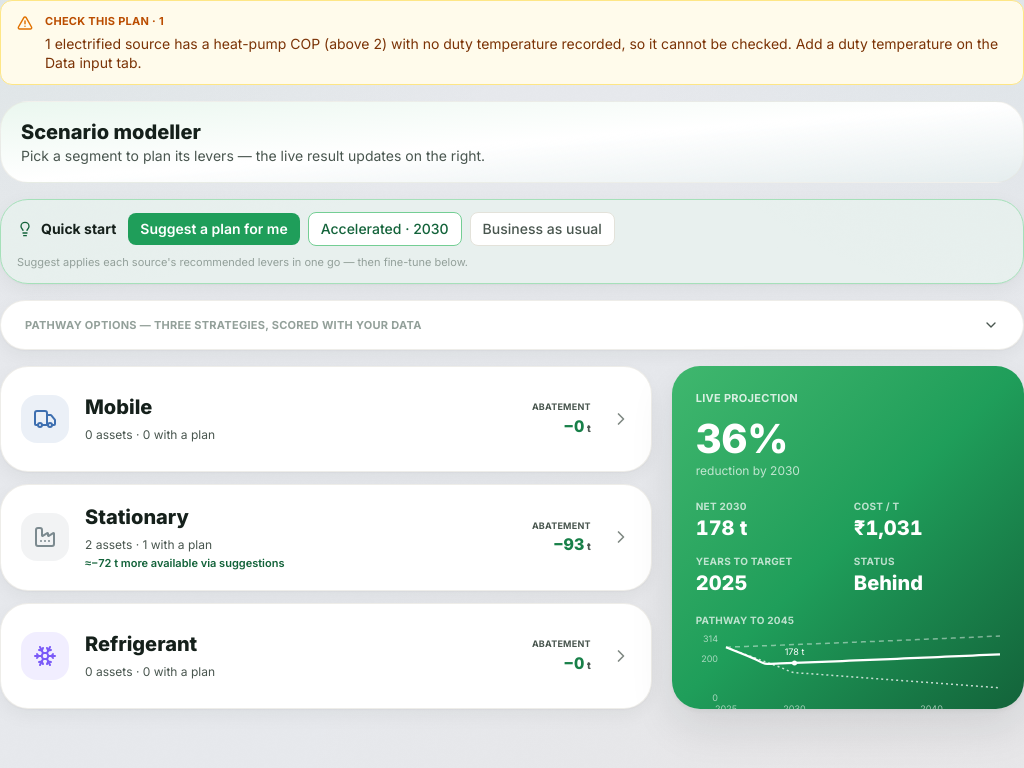
Test: BuilderTab — one planning card per equipment (Task 7, D3) › adds the plan onto the machine that was clicked, leaving its sibling alone (D3)
Click the text "Stationary" at (137, 517), box 85,505 -> 189,529
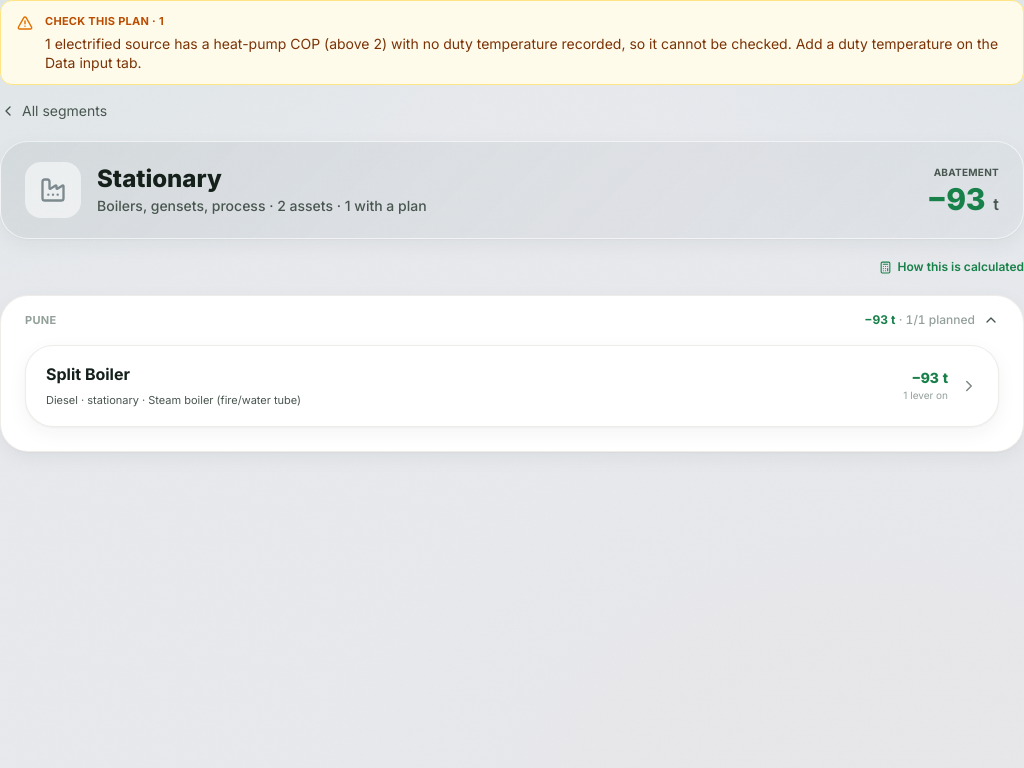
Click the text "Split Boiler" at (88, 374), box 46,362 -> 130,386
(page scrolled)
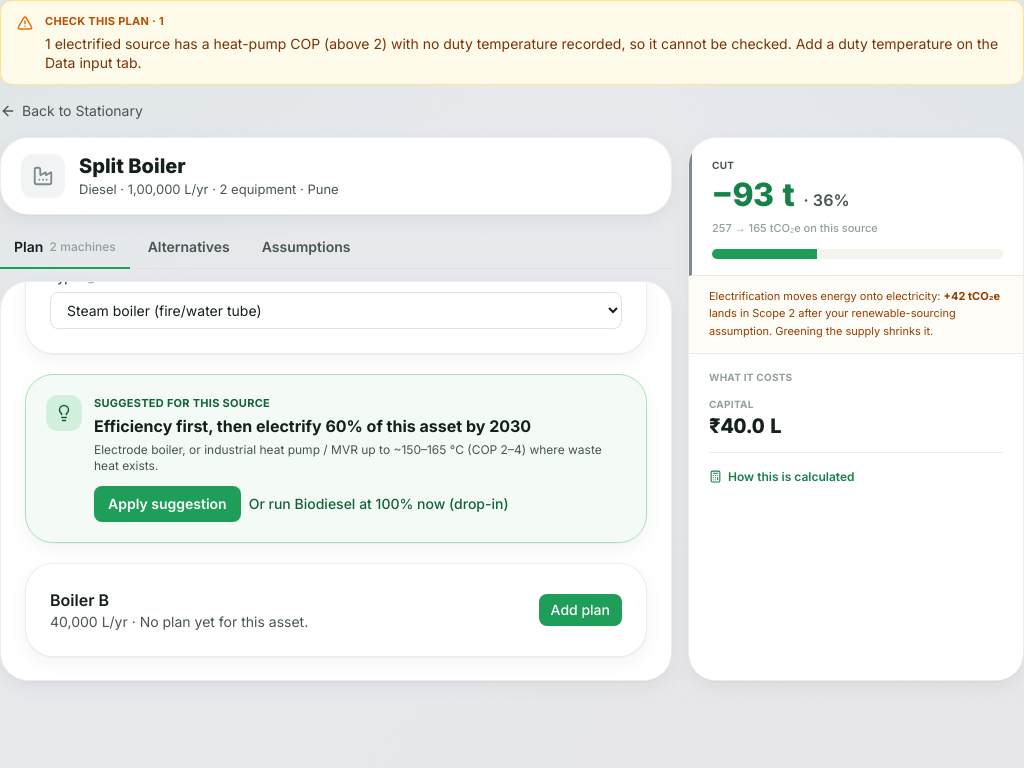
Click the button "Add plan" at (580, 610), box 539,594 -> 622,626
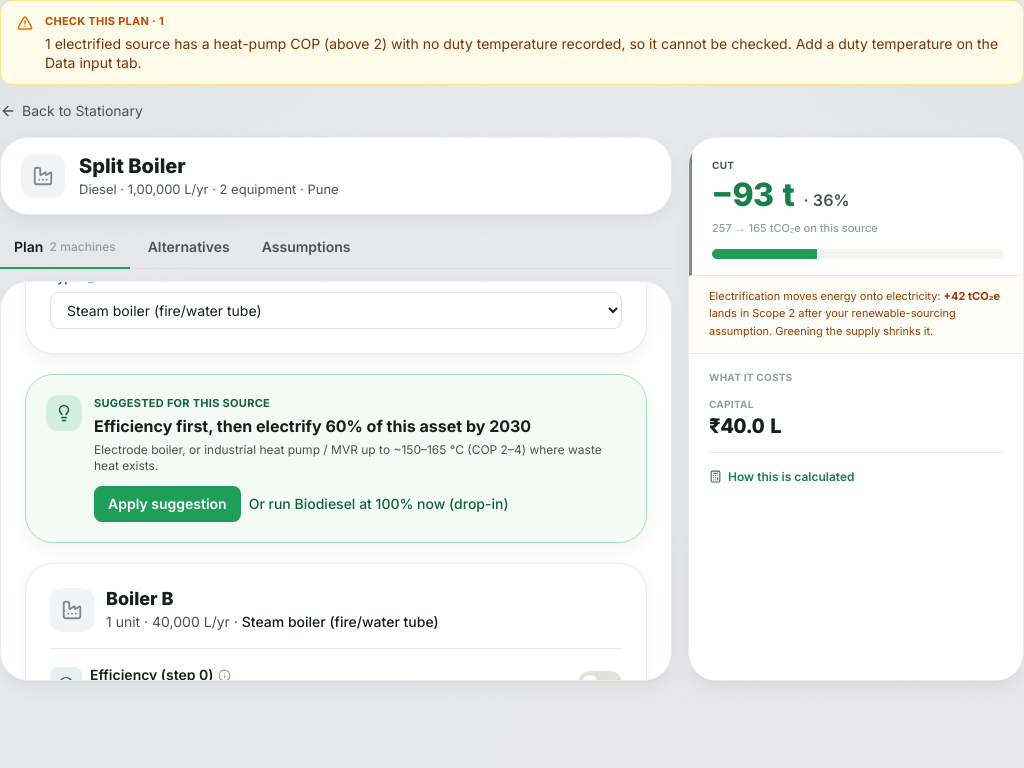
Now the button "Add plan" is gone
